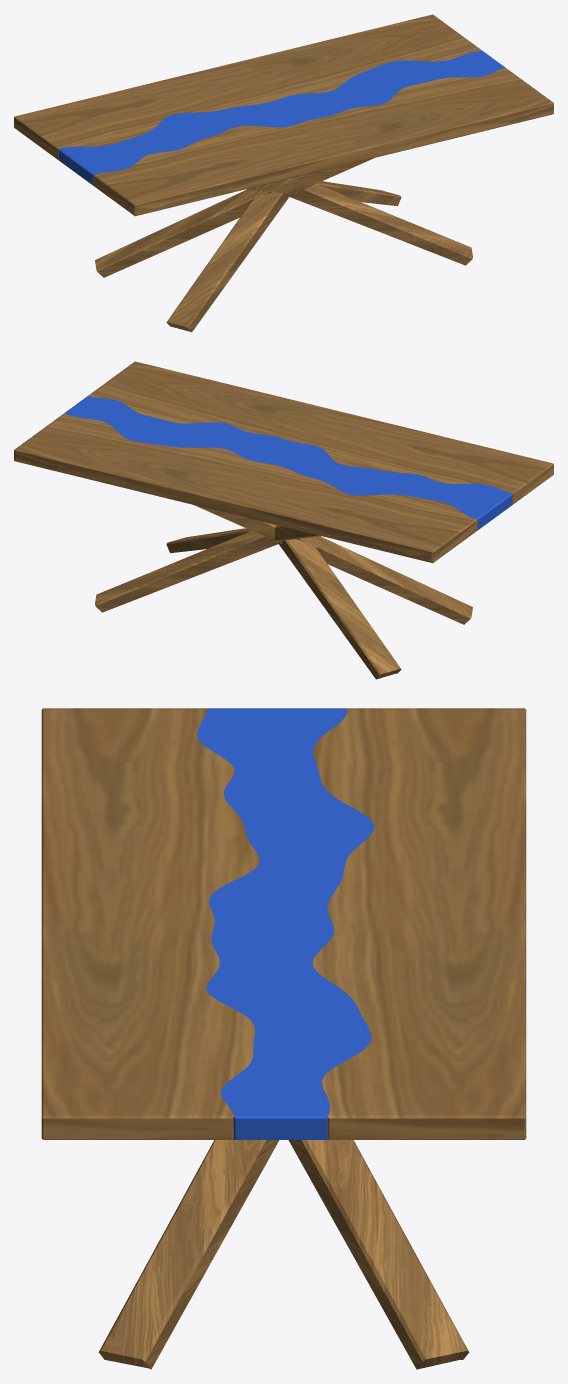
The model's file is rectangular-elm-epoxy-sapphire.glb.
The picture shows the model from 3 angles, top to bottom: view 1: azimuth 30°, elevation 25°; view 2: azimuth 150°, elevation 25°; view 3: azimuth 270°, elevation 25°; orthographic projection. The views are drawn at different scales.
Parts seen in each view (by area): view 1: Wood_Rectangular_EpoxyFar, Wood_Rectangular_EpoxyNear, Base_target, Resin_Rectangular; view 2: Wood_Rectangular_EpoxyNear, Wood_Rectangular_EpoxyFar, Base_target, Resin_Rectangular; view 3: Wood_Rectangular_EpoxyNear, Wood_Rectangular_EpoxyFar, Resin_Rectangular, Base_target.
Part boxes in pixels (box(x1,y1,x2,y2)): Wood_Rectangular_EpoxyFar: box(93, 67, 553, 216); Wood_Rectangular_EpoxyNear: box(14, 14, 481, 159); Base_target: box(95, 158, 472, 332); Resin_Rectangular: box(58, 50, 504, 185); Wood_Rectangular_EpoxyNear: box(14, 413, 477, 563); Wood_Rectangular_EpoxyFar: box(88, 361, 553, 504); Base_target: box(95, 505, 472, 679); Resin_Rectangular: box(64, 396, 512, 529); Wood_Rectangular_EpoxyNear: box(312, 708, 526, 1139); Wood_Rectangular_EpoxyFar: box(41, 708, 259, 1139); Resin_Rectangular: box(197, 708, 374, 1139); Base_target: box(98, 1140, 469, 1369).
Bounding box in the file's own units: 2.13 × 0.762 × 1.07.
Materials: 2 (1 with a texture image).
